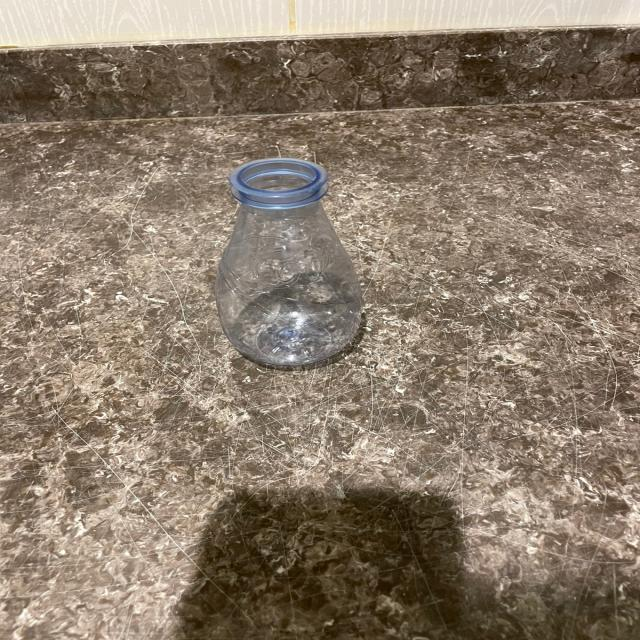chai: (216, 158, 362, 368)
